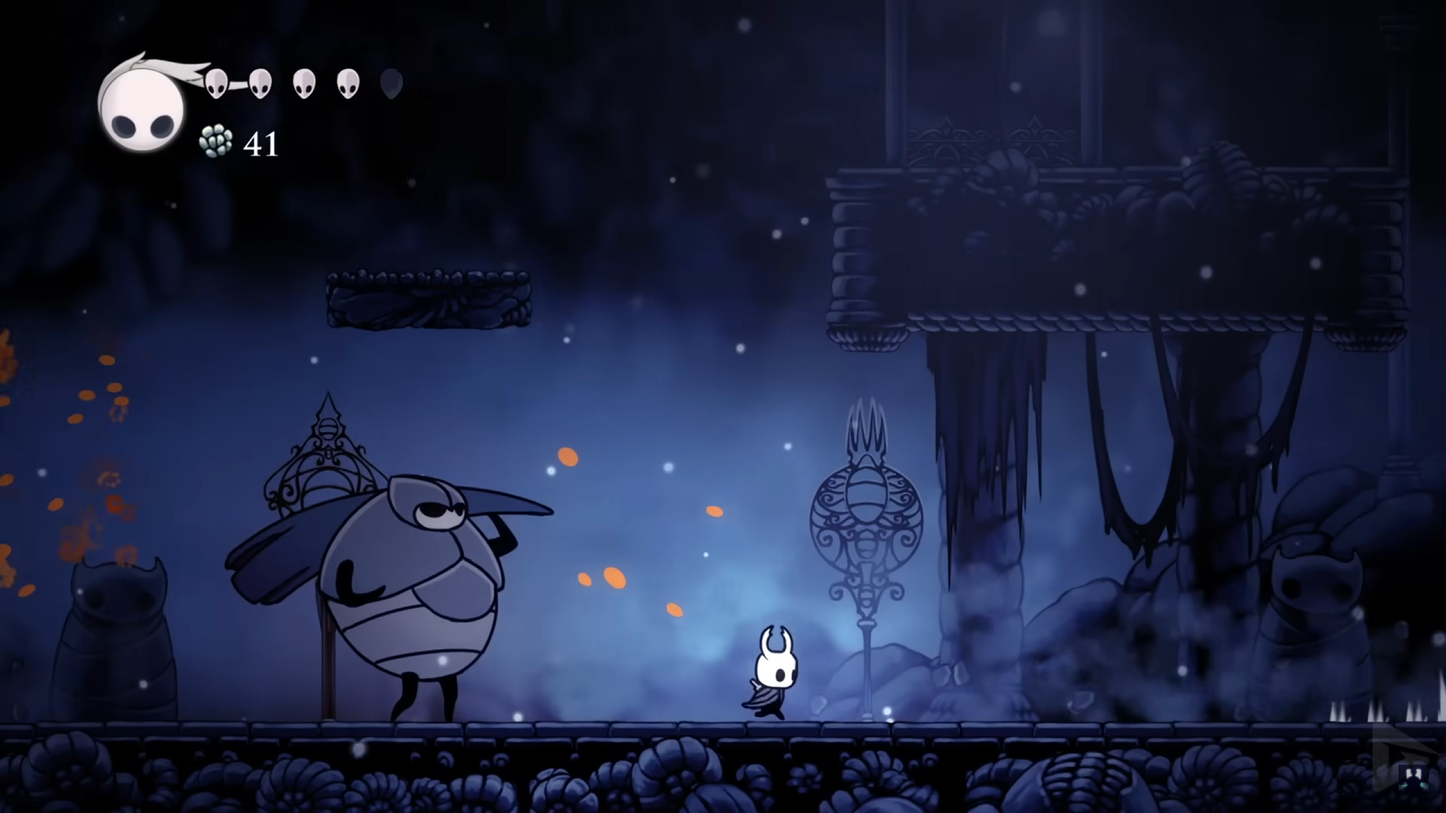HK: (737, 626, 800, 723)
